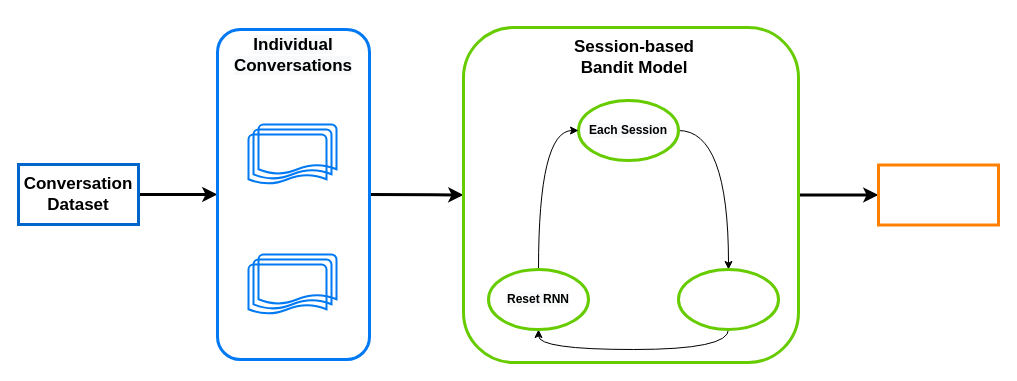
The diagram is 1017 pixels wide and 381 high, and some of its shapes have lost their labels. The centre of each missing label's shape, as x and y in pixels:
Bandit Train: the point at 728,299
Evaluation: the point at 938,194
